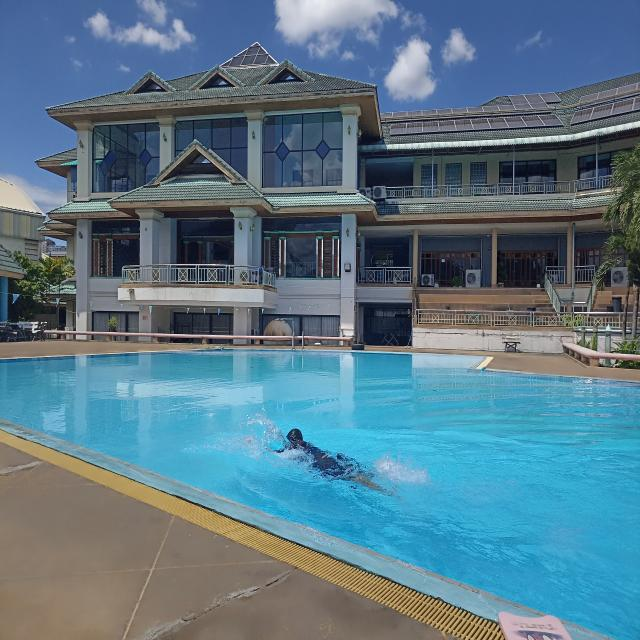Swimming: (251, 415, 409, 504)
